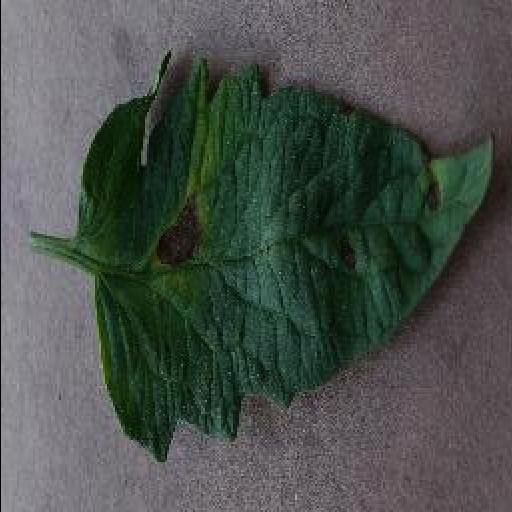disease_tomato: (78, 58, 498, 464)
